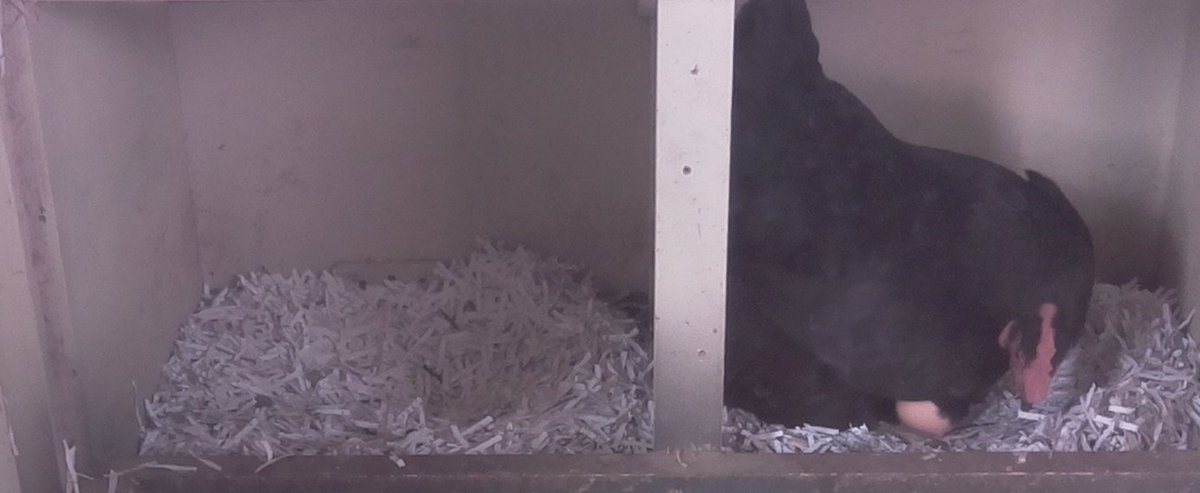egg: (893, 395, 960, 437)
hen: (738, 6, 1094, 433)
